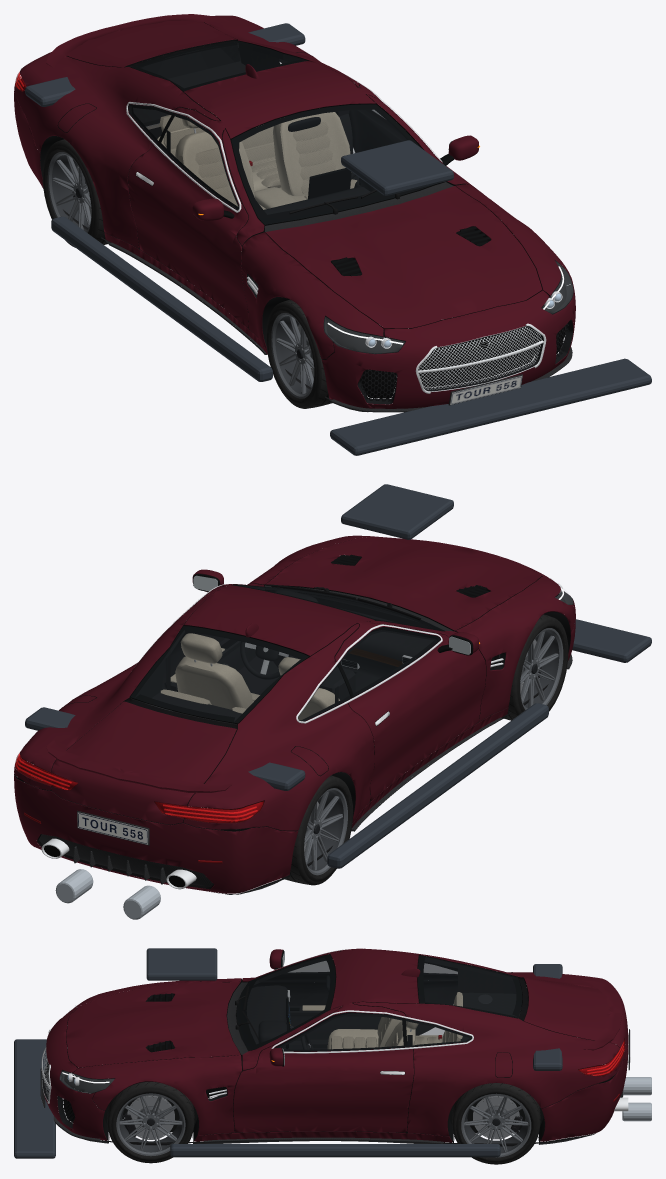
File: car_jdm.glb
The picture shows the model from 3 angles, top to bottom: view 1: azimuth 30°, elevation 25°; view 2: azimuth 150°, elevation 25°; view 3: azimuth 270°, elevation 25°; orthographic projection. The views are drawn at different scales.
Parts seen in each view (by area): view 1: Body, Mod_Splitter, Mod_Skirt_-1, Wheel_FR, Wheel_RR, Mod_Hood, Mod_Wing; view 2: Body, Mod_Skirt_-1, Wheel_RR, Wheel_FR, Mod_Hood, Mod_Splitter, Mod_Wing, Mod_Exhaust_-1, Mod_Exhaust_1, Steering_Wheel; view 3: Body, Wheel_FL, Wheel_RL, Mod_Skirt_1, Mod_Splitter, Mod_Hood, Mod_Wing, Mod_Exhaust_1, Mod_Exhaust_-1.
Part boxes in pixels (left/top/right/bottom): Body: left=14, top=14, right=575, bottom=412; Mod_Splitter: left=330, top=358, right=651, bottom=455; Mod_Skirt_-1: left=51, top=216, right=272, bottom=381; Wheel_FR: left=266, top=299, right=332, bottom=408; Wheel_RR: left=42, top=139, right=110, bottom=247; Mod_Hood: left=341, top=140, right=453, bottom=195; Mod_Wing: left=25, top=23, right=305, bottom=106; Body: left=14, top=535, right=575, bottom=894; Mod_Skirt_-1: left=327, top=703, right=548, bottom=868; Wheel_RR: left=282, top=775, right=353, bottom=885; Wheel_FR: left=502, top=614, right=568, bottom=720; Mod_Hood: left=341, top=484, right=453, bottom=539; Mod_Splitter: left=572, top=619, right=651, bottom=662; Mod_Wing: left=25, top=707, right=305, bottom=790; Mod_Exhaust_-1: left=123, top=885, right=160, bottom=919; Mod_Exhaust_1: left=55, top=869, right=93, bottom=903; Steering_Wheel: left=240, top=641, right=293, bottom=679; Body: left=40, top=948, right=630, bottom=1146; Wheel_FL: left=107, top=1082, right=194, bottom=1163; Wheel_RL: left=452, top=1083, right=540, bottom=1164; Mod_Skirt_1: left=170, top=1144, right=500, bottom=1157; Mod_Splitter: left=14, top=1039, right=55, bottom=1158; Mod_Hood: left=146, top=948, right=217, bottom=980; Mod_Wing: left=533, top=964, right=562, bottom=1070; Mod_Exhaust_1: left=622, top=1102, right=651, bottom=1121; Mod_Exhaust_-1: left=622, top=1077, right=651, bottom=1095.
Bounding box in the file's own units: 2.2 × 1.39 × 5.17.
62 materials, 14 textured.
